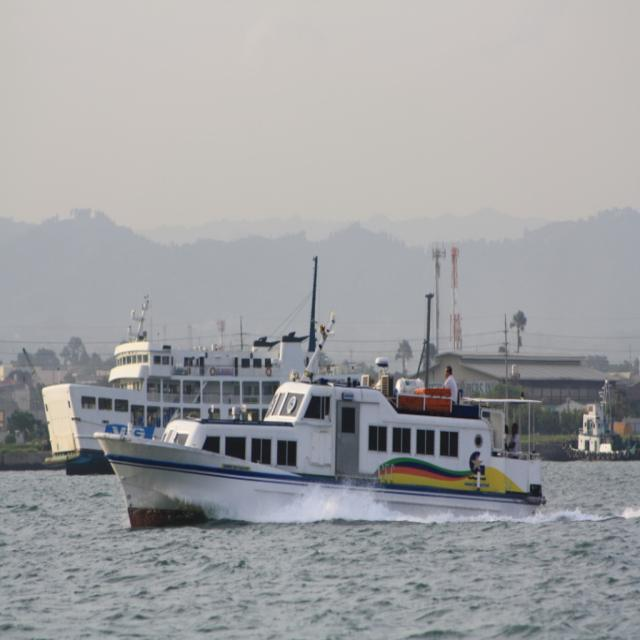Boat: (42, 292, 366, 475), (566, 379, 638, 461)
